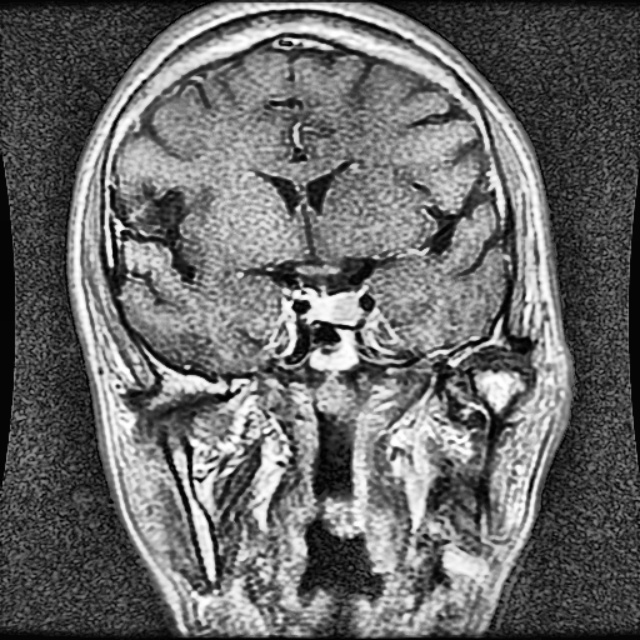Pituitary: (314, 290, 364, 322)
